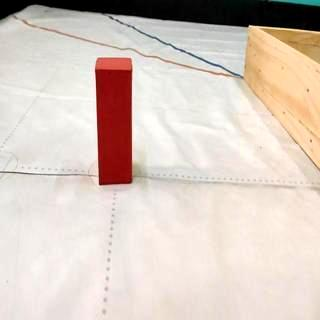redbox: (95, 56, 131, 186)
